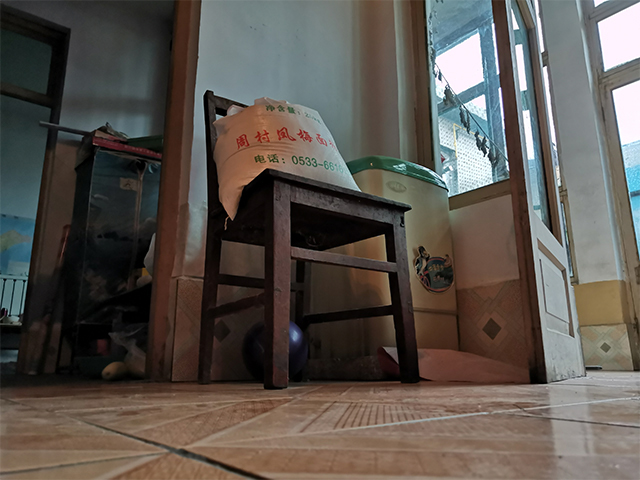cabinet: (54, 144, 163, 380)
stool: (197, 89, 423, 391)
